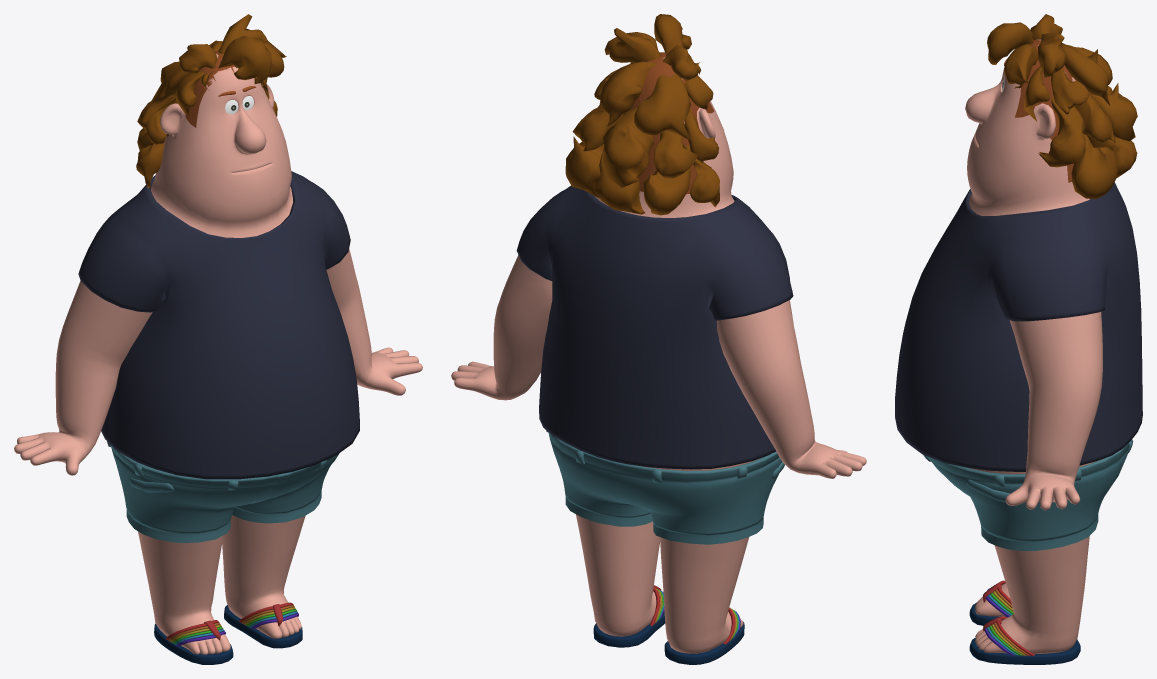
Rendered from r84-phil-relaxed-audition.glb.
3 views of the same model, side by side, from view 1: azimuth 30°, elevation 25°; view 2: azimuth 150°, elevation 25°; view 3: azimuth 270°, elevation 25° (orthographic). The views are drawn at different scales.
Visible parts, largest first — view 1: R84_AUDITION_GEO_GEO-phil_shirt, R84_AUDITION_GEO_GEO-phil_head, R84_AUDITION_GEO_GEO-phil_arms, R84_AUDITION_GEO_GEO-phil_body, R84_AUDITION_GEO_GEO-phil_pants, R84_AUDITION_GEO_GEO-phil_hair.groom_base, R84_AUDITION_GEO_GEO-phil_flippers, R84_AUDITION_GEO_GEO-phil_shorts_fray, R84_AUDITION_GEO_GEO-phil_hair.scalp; view 2: R84_AUDITION_GEO_GEO-phil_shirt, R84_AUDITION_GEO_GEO-phil_hair.groom_base, R84_AUDITION_GEO_GEO-phil_arms, R84_AUDITION_GEO_GEO-phil_body, R84_AUDITION_GEO_GEO-phil_pants, R84_AUDITION_GEO_GEO-phil_head, R84_AUDITION_GEO_GEO-phil_flippers, R84_AUDITION_GEO_GEO-phil_shorts_fray, R84_AUDITION_GEO_GEO-phil_hair.scalp; view 3: R84_AUDITION_GEO_GEO-phil_shirt, R84_AUDITION_GEO_GEO-phil_hair.groom_base, R84_AUDITION_GEO_GEO-phil_arms, R84_AUDITION_GEO_GEO-phil_head, R84_AUDITION_GEO_GEO-phil_body, R84_AUDITION_GEO_GEO-phil_pants, R84_AUDITION_GEO_GEO-phil_flippers, R84_AUDITION_GEO_GEO-phil_shorts_fray, R84_AUDITION_GEO_GEO-phil_hair.scalp.
Part boxes in pixels (x1,y1,x2,y2): R84_AUDITION_GEO_GEO-phil_shirt: (78,171,359,479); R84_AUDITION_GEO_GEO-phil_head: (150,54,292,237); R84_AUDITION_GEO_GEO-phil_arms: (14,248,422,475); R84_AUDITION_GEO_GEO-phil_body: (138,466,305,654); R84_AUDITION_GEO_GEO-phil_pants: (107,441,339,533); R84_AUDITION_GEO_GEO-phil_hair.groom_base: (136,14,286,188); R84_AUDITION_GEO_GEO-phil_flippers: (154,602,302,664); R84_AUDITION_GEO_GEO-phil_shorts_fray: (126,490,321,542); R84_AUDITION_GEO_GEO-phil_hair.scalp: (166,50,266,136); R84_AUDITION_GEO_GEO-phil_shirt: (516,185,793,469); R84_AUDITION_GEO_GEO-phil_hair.groom_base: (565,14,719,215); R84_AUDITION_GEO_GEO-phil_arms: (451,255,866,478); R84_AUDITION_GEO_GEO-phil_body: (575,457,761,653); R84_AUDITION_GEO_GEO-phil_pants: (546,430,784,535); R84_AUDITION_GEO_GEO-phil_head: (594,56,734,217); R84_AUDITION_GEO_GEO-phil_flippers: (593,585,744,664); R84_AUDITION_GEO_GEO-phil_shorts_fray: (565,496,763,544); R84_AUDITION_GEO_GEO-phil_hair.scalp: (623,52,714,194); R84_AUDITION_GEO_GEO-phil_shirt: (895,182,1142,471); R84_AUDITION_GEO_GEO-phil_hair.groom_base: (987,14,1137,199); R84_AUDITION_GEO_GEO-phil_arms: (1005,311,1102,510); R84_AUDITION_GEO_GEO-phil_head: (965,39,1089,215); R84_AUDITION_GEO_GEO-phil_body: (968,458,1103,653); R84_AUDITION_GEO_GEO-phil_pants: (923,439,1133,541); R84_AUDITION_GEO_GEO-phil_flippers: (969,580,1080,664); R84_AUDITION_GEO_GEO-phil_shorts_fray: (981,514,1098,550); R84_AUDITION_GEO_GEO-phil_hair.scalp: (1014,39,1087,182).
Size of the model in its own units: 1.09 by 1.58 by 0.5731.
